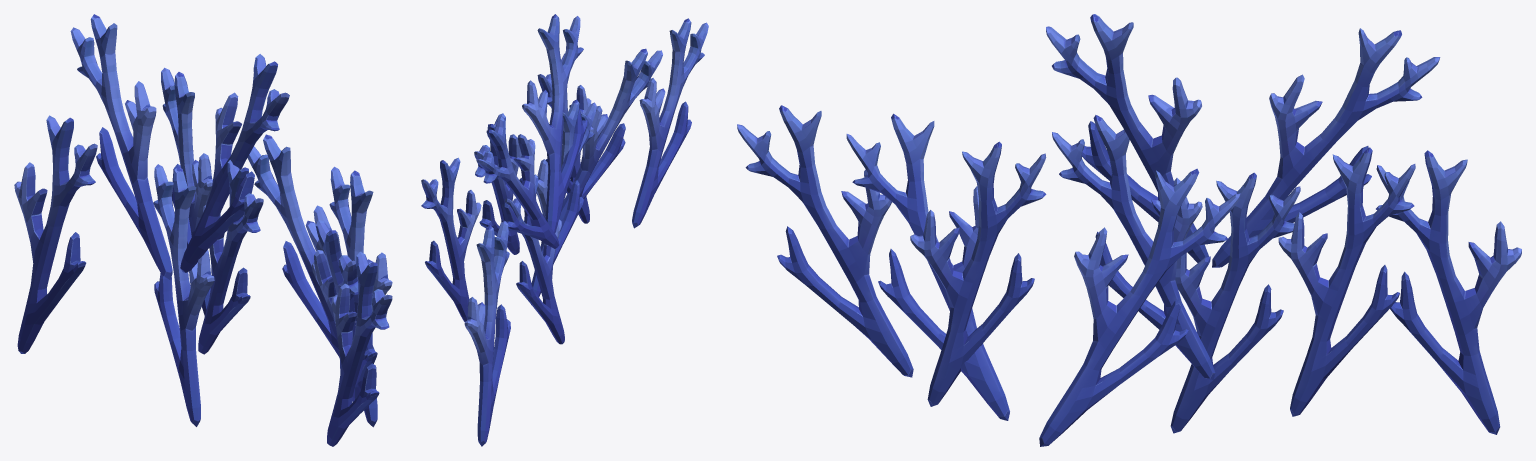
File: bluecoral2.glb
The picture shows the model from 3 angles, left to right: view 1: azimuth 30°, elevation 25°; view 2: azimuth 150°, elevation 25°; view 3: azimuth 270°, elevation 25°; orthographic projection. The views are drawn at different scales.
Parts seen in each view (by area): view 1: Plane.008; view 2: Plane.008; view 3: Plane.008.
Boxes of the visible parts, x1,y1,x2,y2 form: Plane.008: (14,14,392,446); Plane.008: (421,14,708,446); Plane.008: (737,14,1521,446).
Bounding box in the file's own units: 8.19 × 19.53 × 29.79.
1 material, 1 textured.
